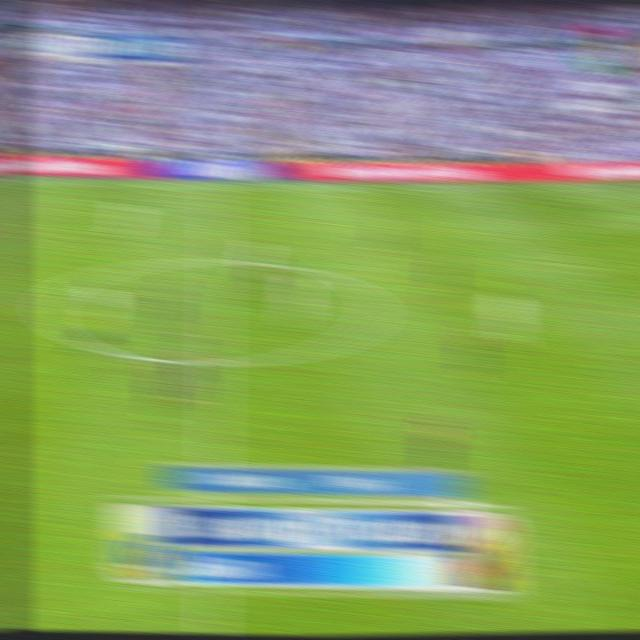bigarea_bottom_inner: (489, 576, 517, 607)
halfcircle_bottom: (200, 345, 230, 376)
halfcircle_top: (201, 247, 231, 272)
midline_top_intersection: (205, 178, 228, 193)
